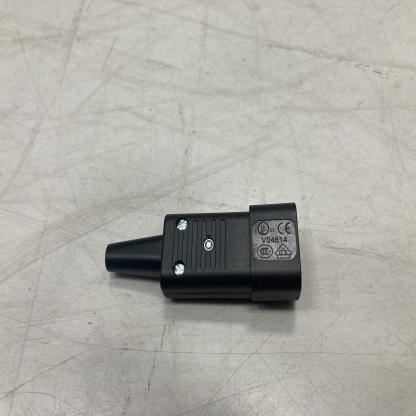SP0000004: (81, 158, 320, 347)
